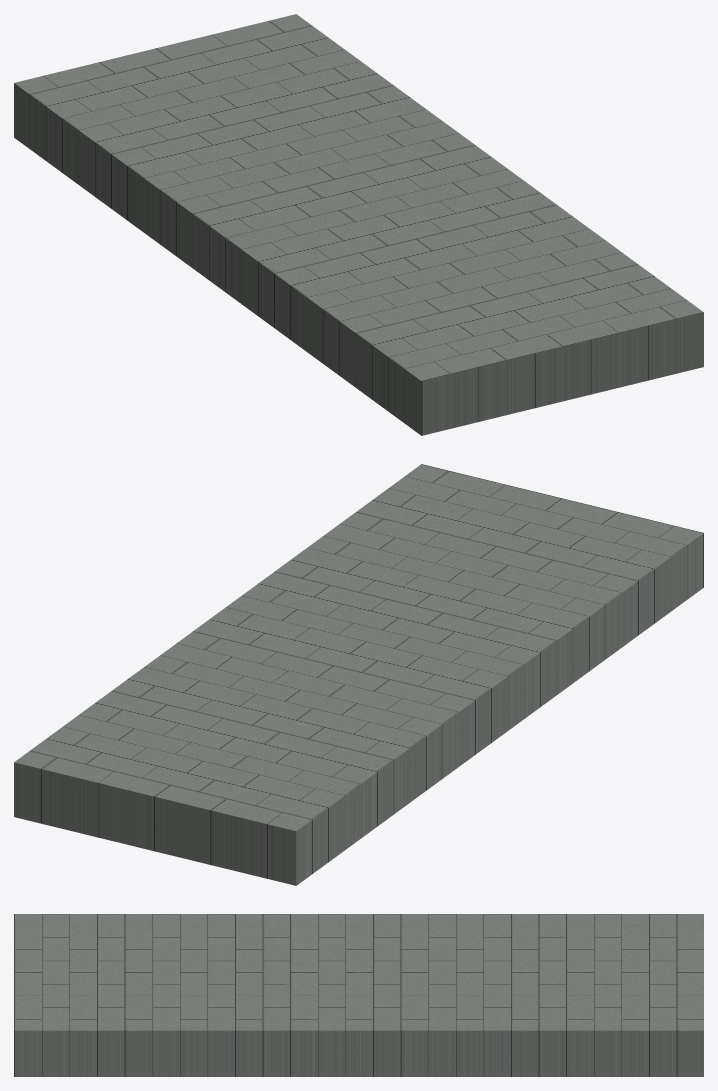
Rendered from RK_Sidewalk_2x5m.fbx.
3 renders of one model, top to bottom at view 1: azimuth 30°, elevation 25°; view 2: azimuth 150°, elevation 25°; view 3: azimuth 270°, elevation 25°, orthographic. The views are drawn at different scales.
Visible parts, largest first — view 1: COL_Paving.003; view 2: COL_Paving.003; view 3: COL_Paving.003.
Boxes of the visible parts, x1,y1,x2,y2 form: COL_Paving.003: (14, 14, 703, 435); COL_Paving.003: (14, 464, 703, 885); COL_Paving.003: (14, 914, 703, 1076).
Size of the model in its own units: 200 by 37 by 500.
Materials: 1 (1 with a texture image).
